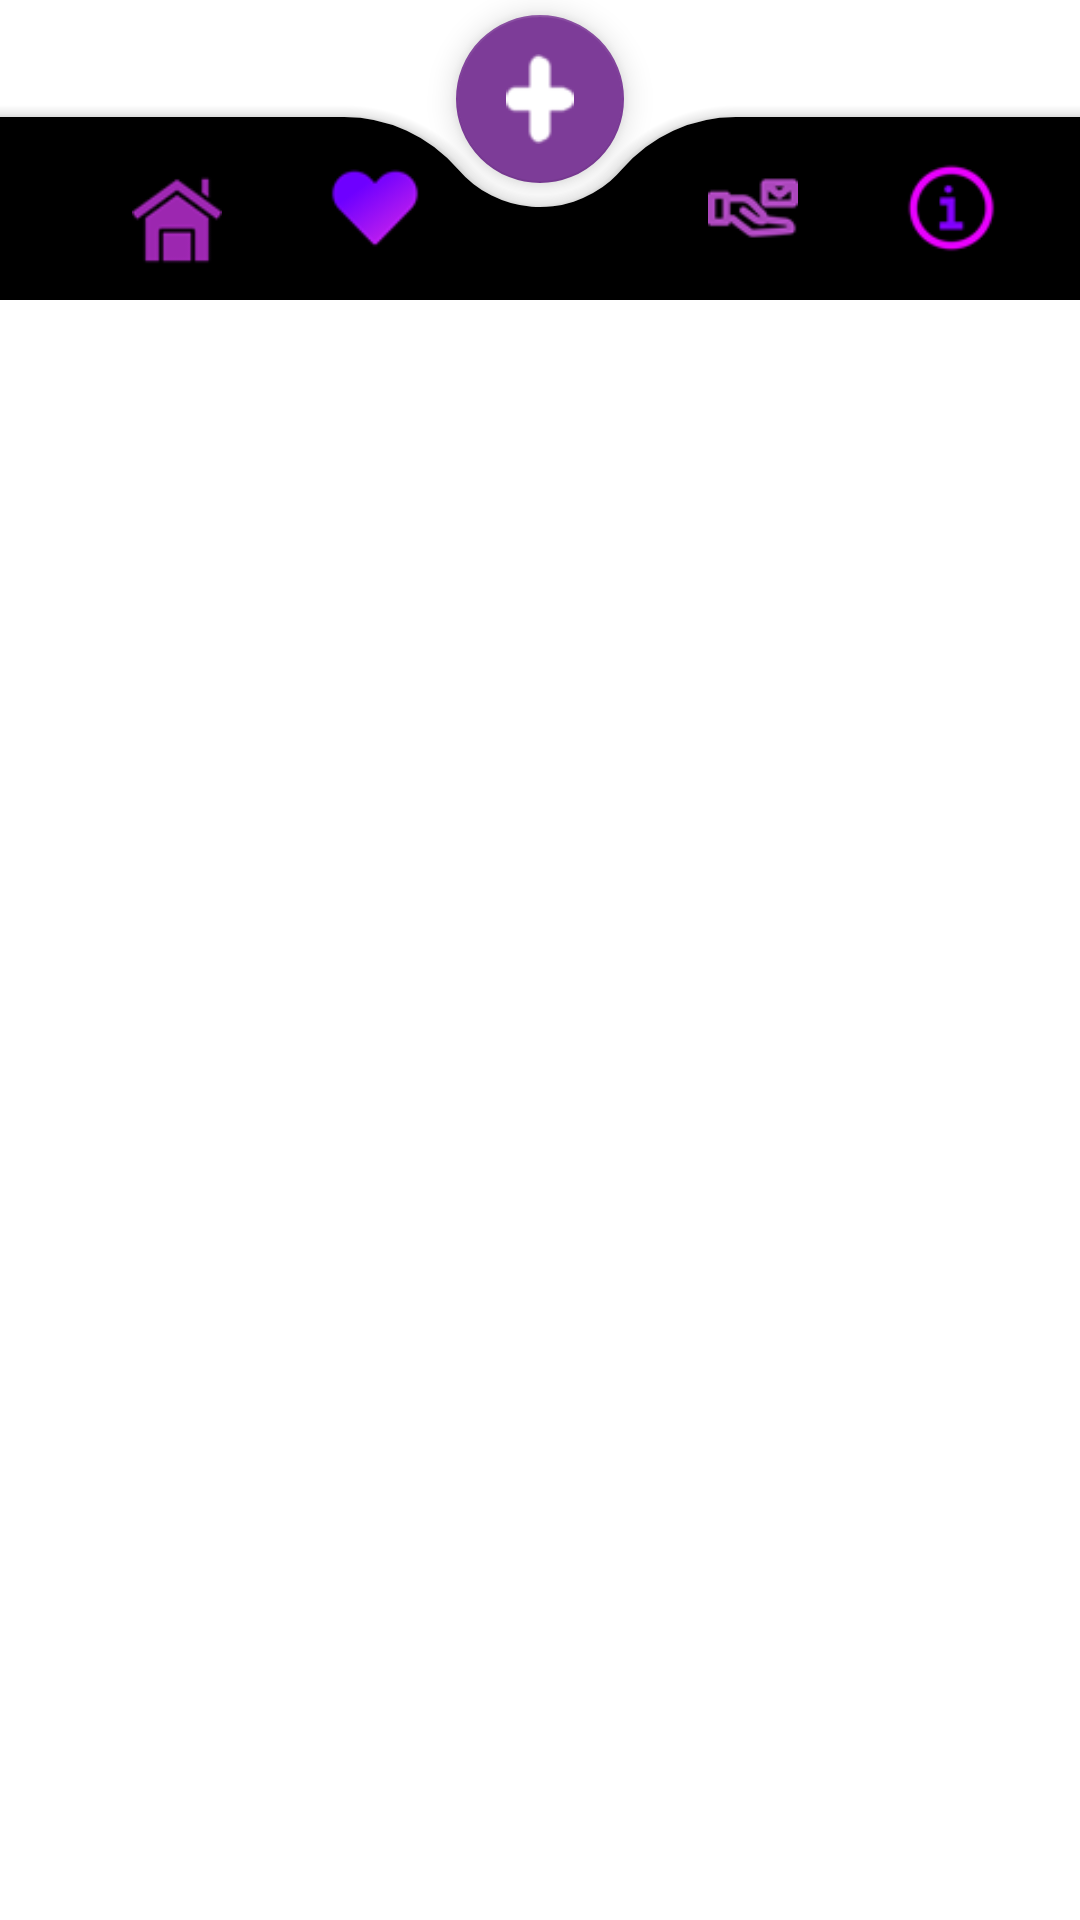

Where to tap for icons on this 1080 × 1920 app screen, as (x=x, y=y):
favorite: (x=375, y=207)
home: (x=177, y=220)
info: (x=951, y=208)
mail: (x=753, y=208)
